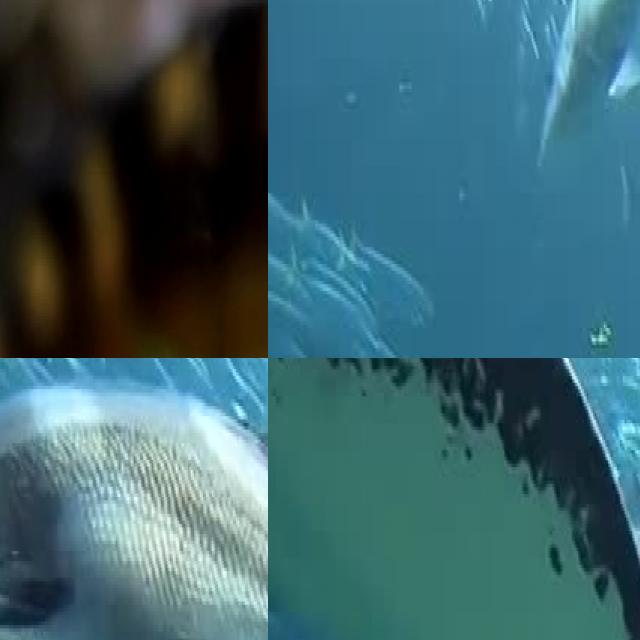fish: (0, 0, 268, 358), (0, 375, 268, 640)
